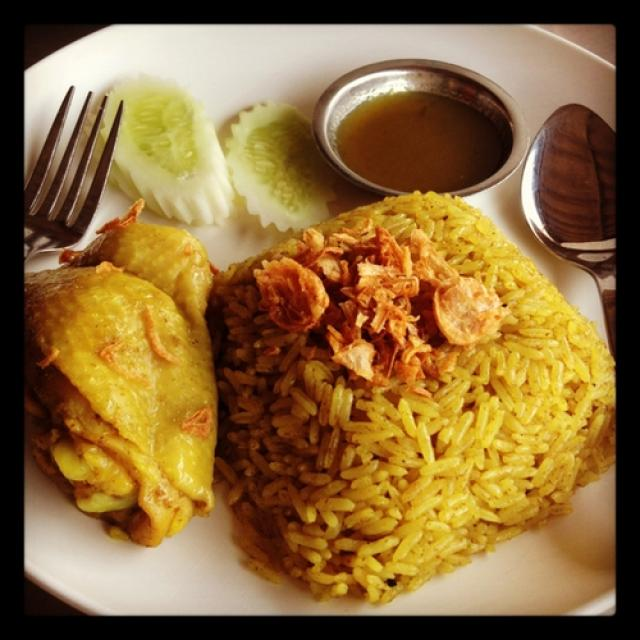米饭主食: (23, 32, 616, 613)
